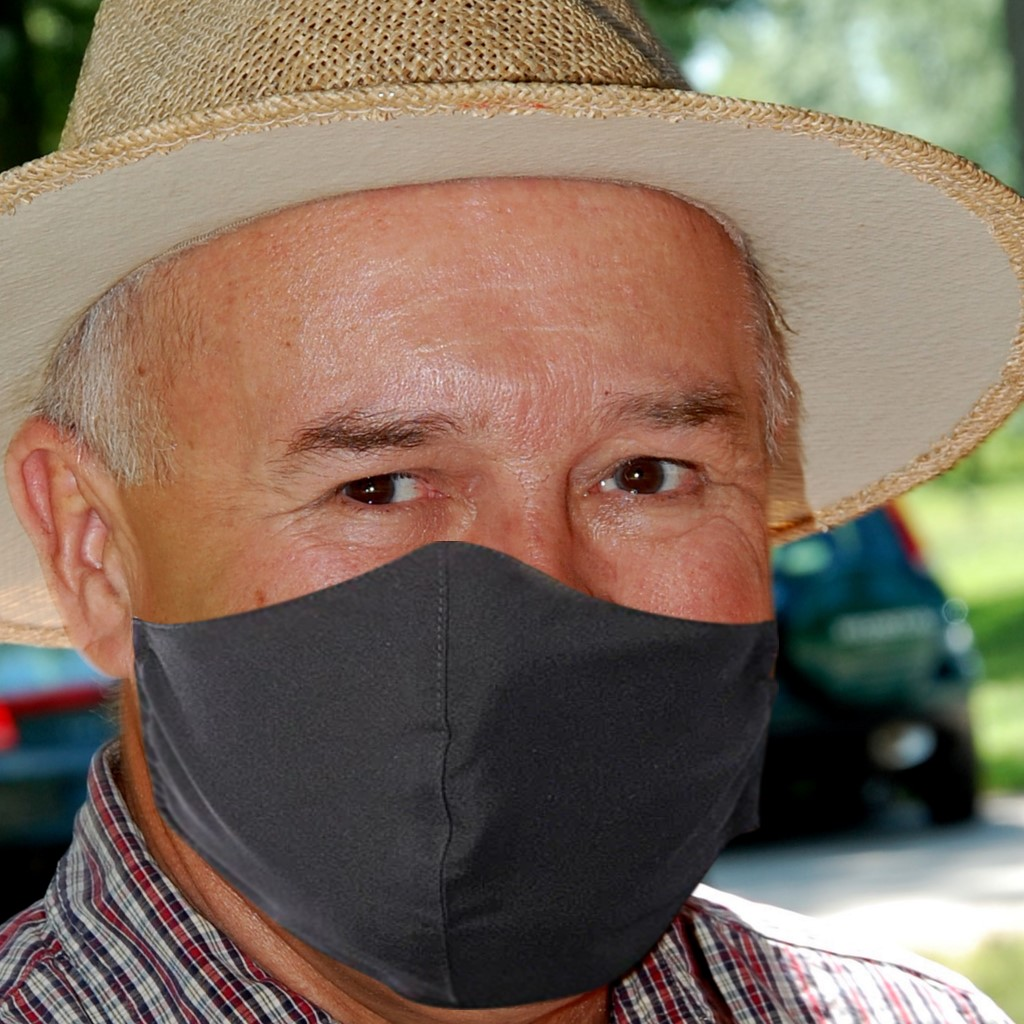con_mascara: (58, 190, 784, 1000)
